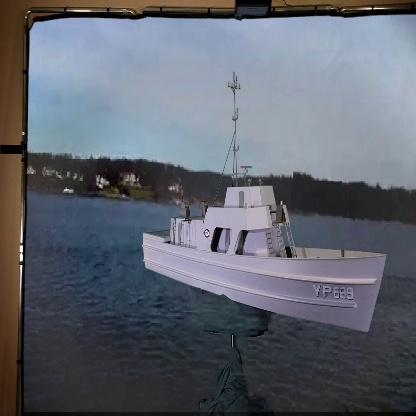YP689: (141, 76, 387, 332)
